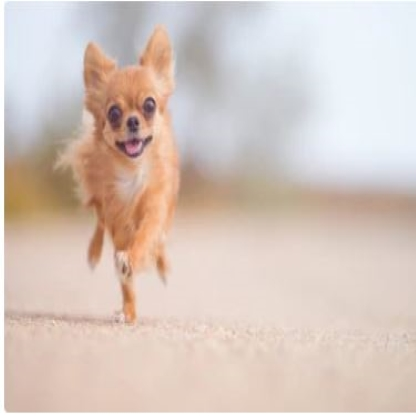chihuahua: (58, 22, 181, 326)
